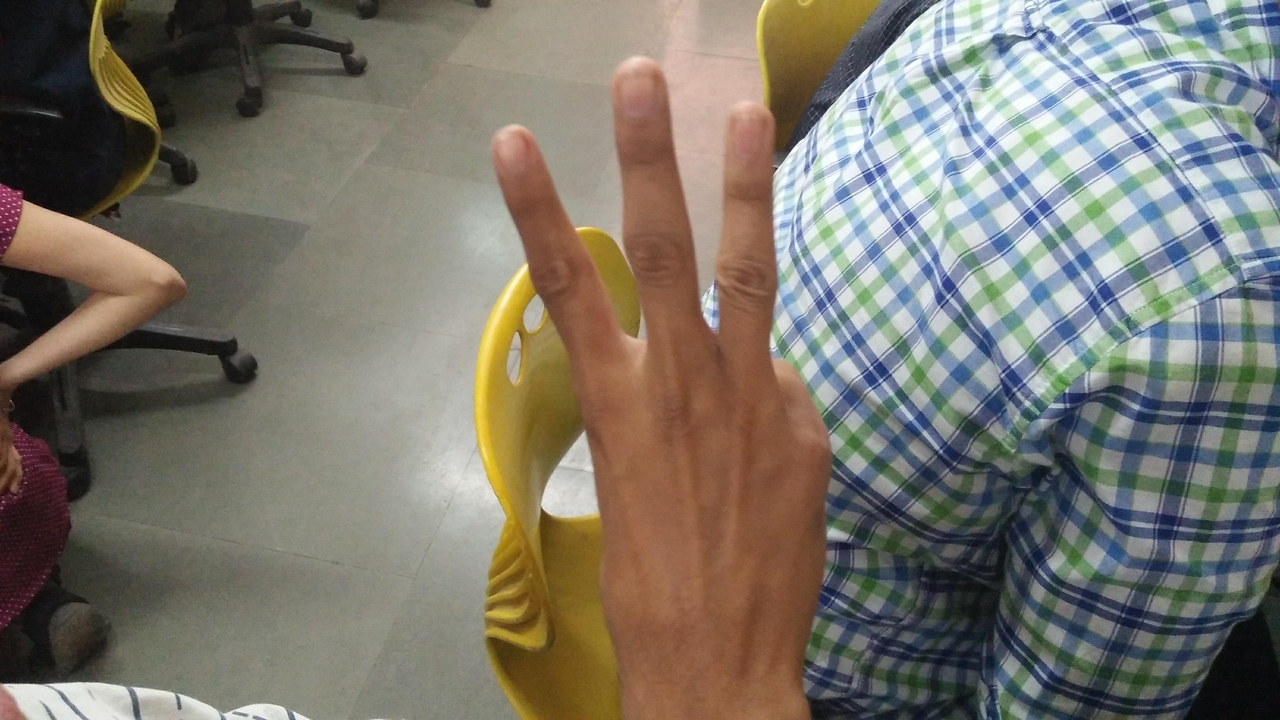fingertip: (606, 52, 670, 116), (482, 120, 548, 178), (716, 92, 778, 150)
